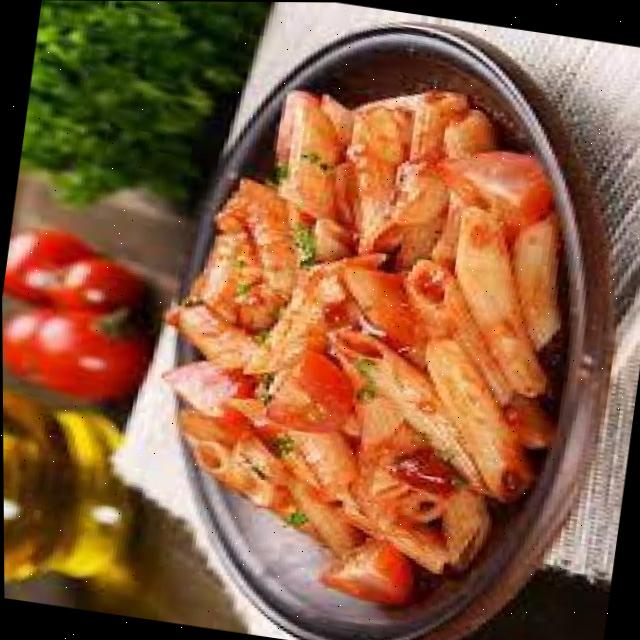Wet: (167, 92, 568, 554)
